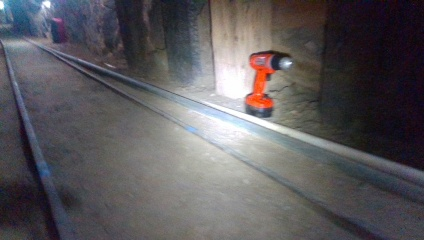backpack: (50, 16, 67, 42)
drill: (243, 51, 294, 118)
